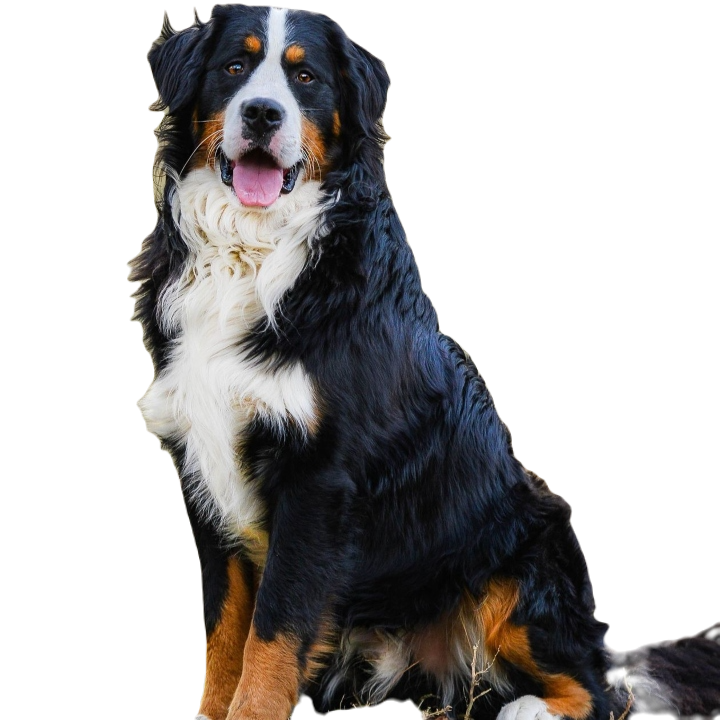Dog: (132, 1, 719, 719)
